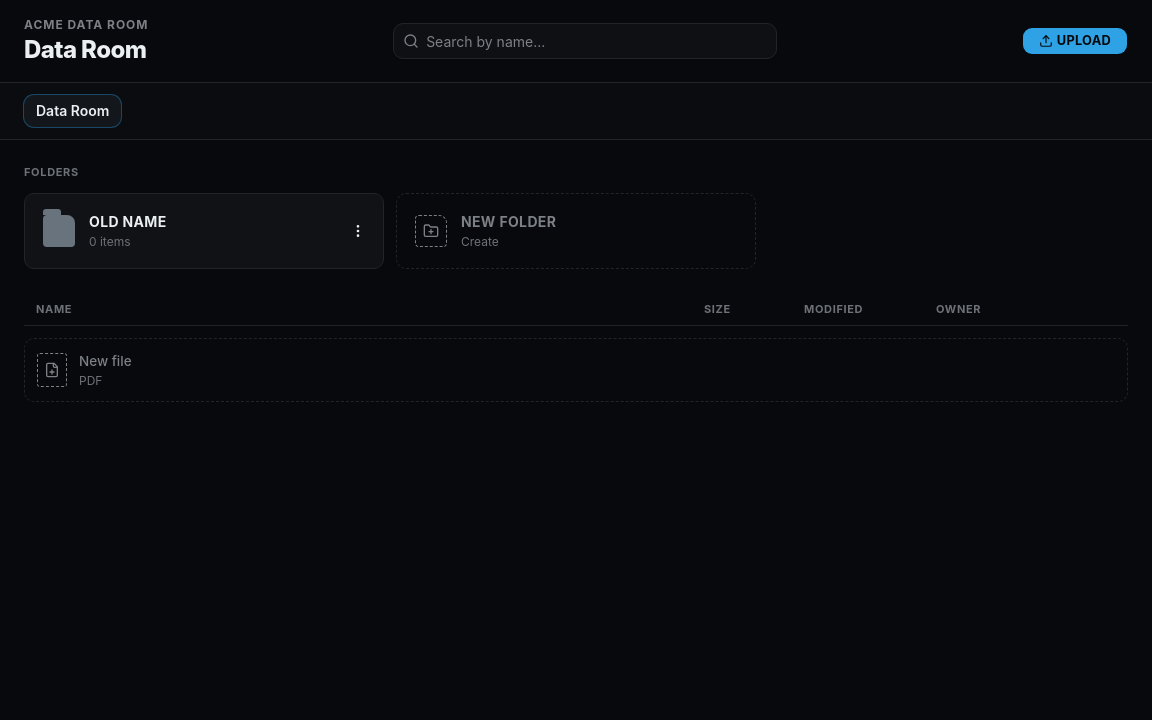
it: optimistic rename › updates the folder name in the grid before renameFolder resolves
Expected: the button "New folder Create" is shown, left=396, top=192, right=756, bottom=268
Expected: the link "Old name 0 items" is shown, left=43, top=212, right=167, bottom=248
Click the button named "Actions for Old name": [358, 230] box left=341, top=214, right=375, bottom=248
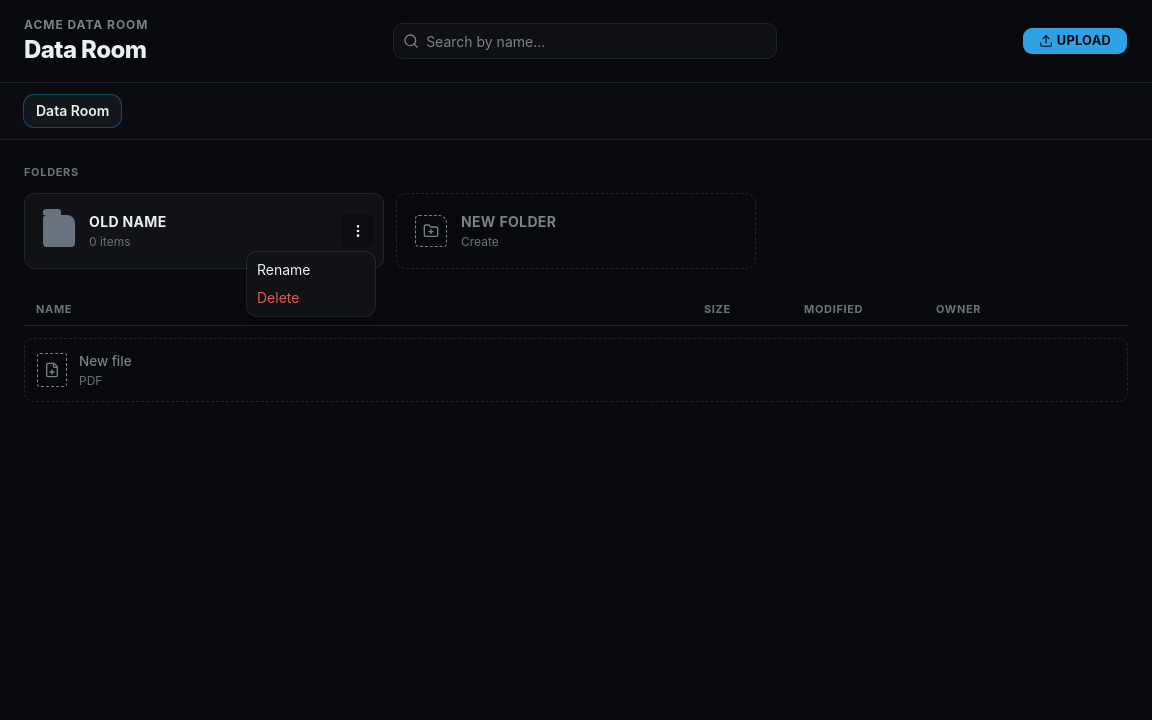
Click the menu item "Rename": [284, 270] box left=257, top=261, right=310, bottom=278
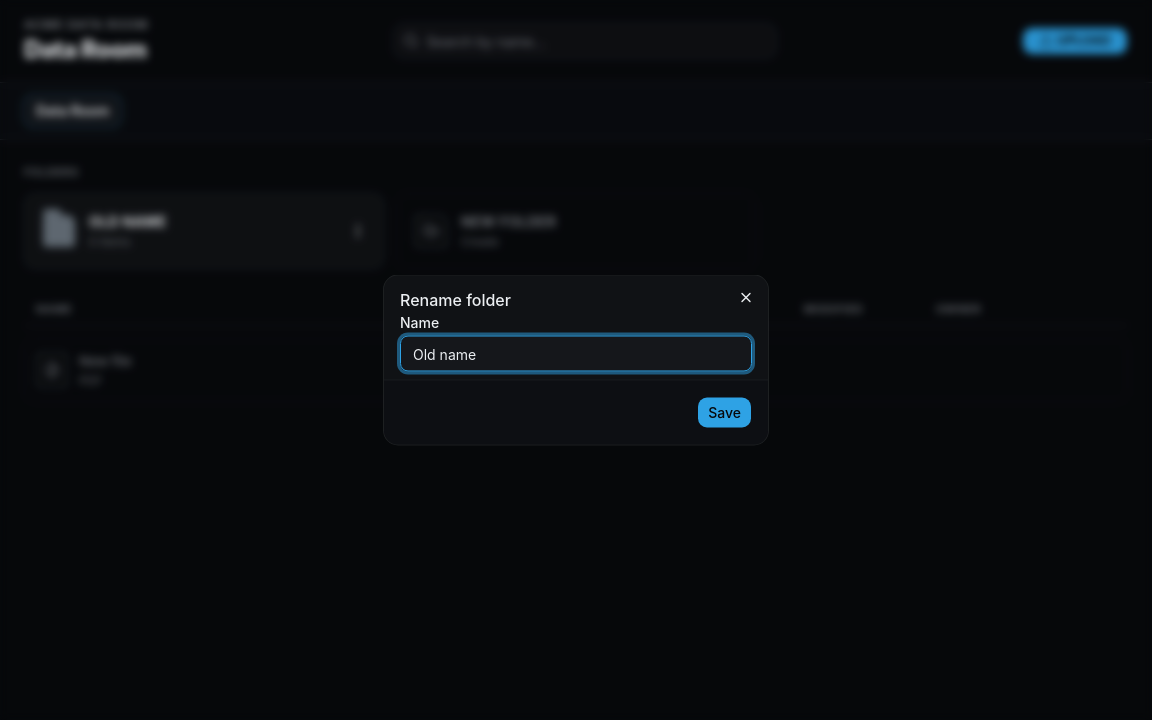
Replace the text in the field labelled "Name" with "New name": [576, 354] box left=400, top=336, right=752, bottom=372
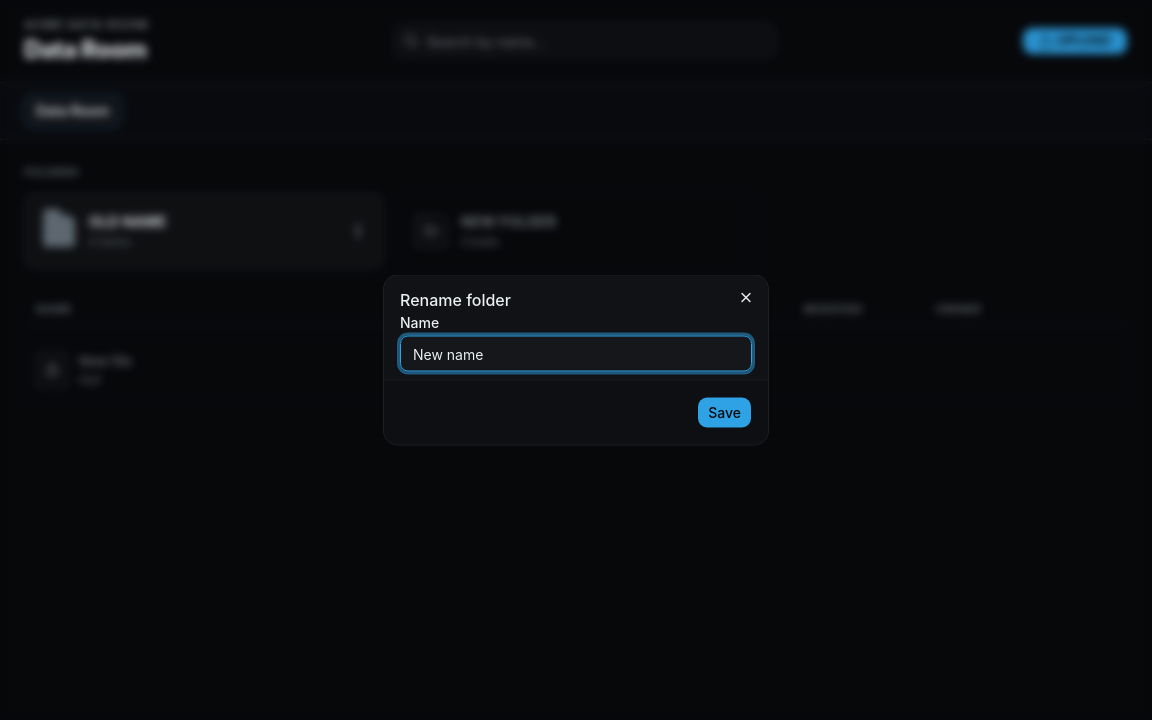
Click the button "Save": [725, 412] box left=697, top=396, right=752, bottom=428
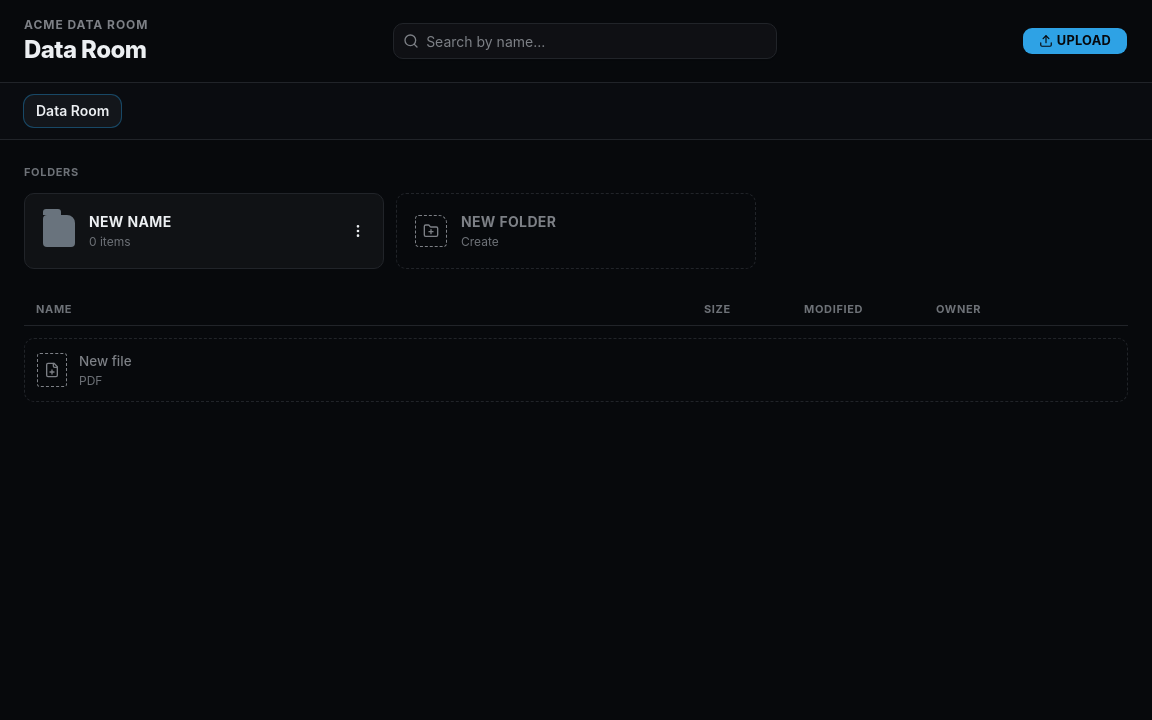
Now the link "New name 0 items" is shown, box left=43, top=212, right=172, bottom=248
Now the link "Old name" is gone
Now the heading "Rename" is gone
